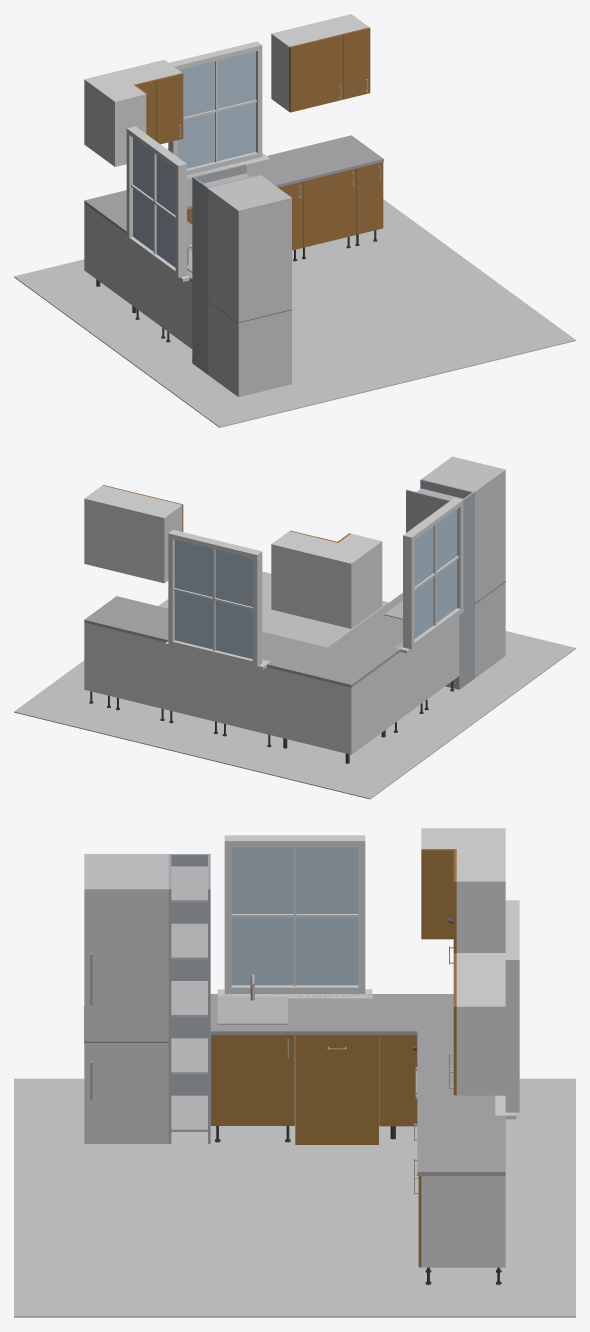
File: hybrid_l_shape_two_windows.glb
3 renders of one model, top to bottom at view 1: azimuth 30°, elevation 25°; view 2: azimuth 150°, elevation 25°; view 3: azimuth 270°, elevation 25°, orthographic. The views are drawn at different scales.
Parts seen in each view (by area): view 1: world; view 2: world; view 3: world.
Boxes of the visible parts, x1,y1,x2,y2 form: world: (14,14,575,427); world: (14,456,575,799); world: (14,828,575,1317).
Size of the model in its own units: 400 by 221 by 400.
